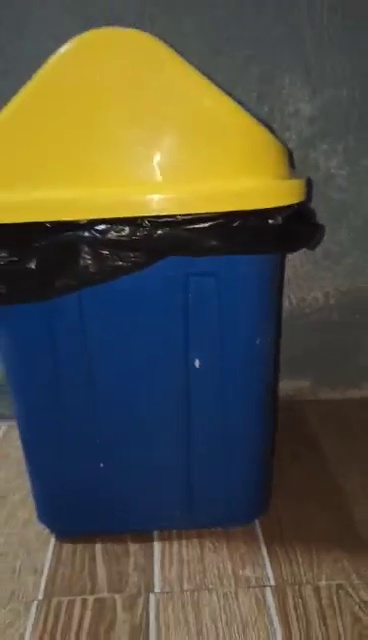garbagebin: (1, 29, 323, 543)
